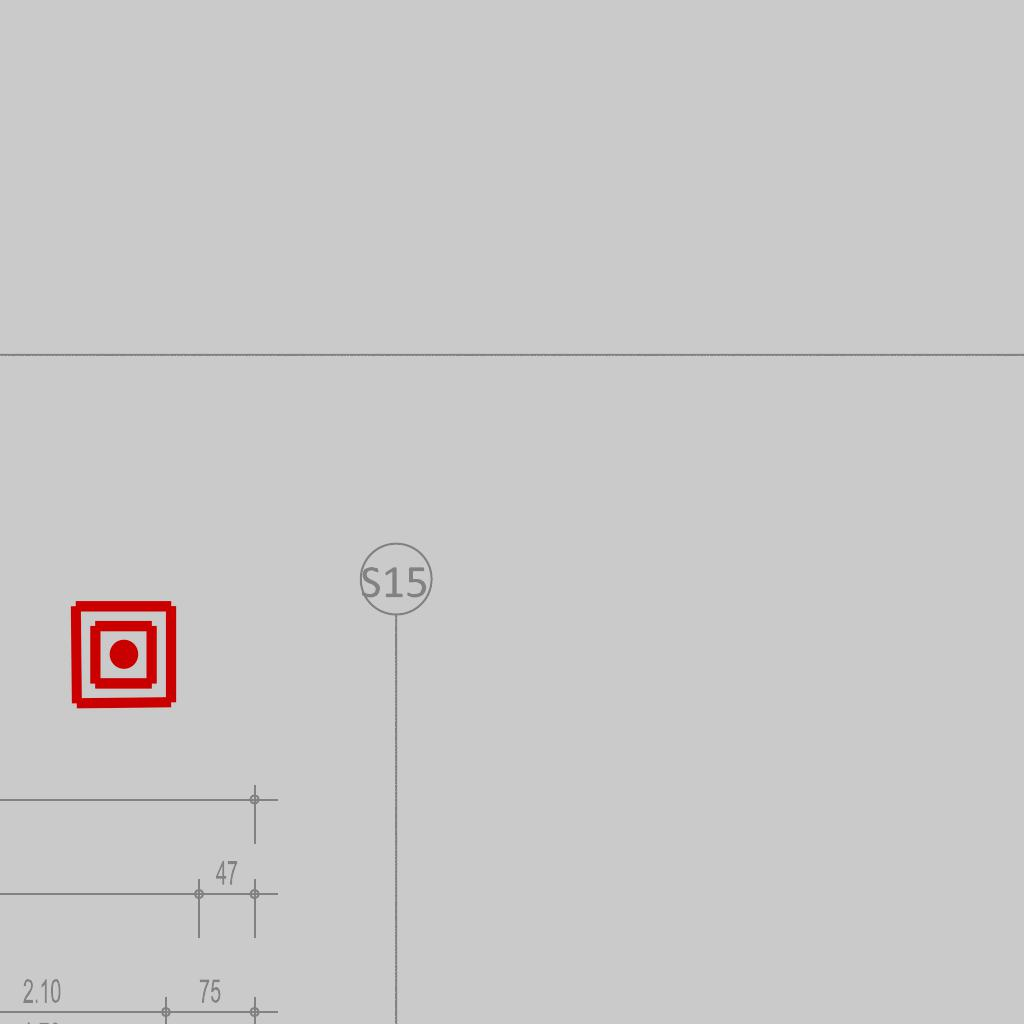NAM-Nichtautomatischer_Melder: (67, 598, 180, 711)
